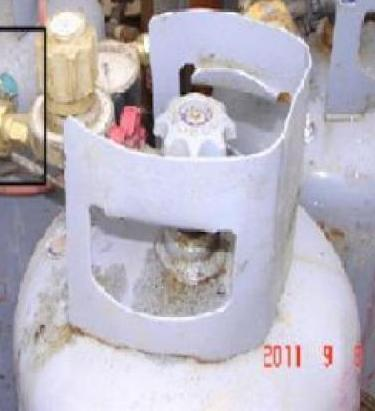cylinder: (1, 0, 375, 411)
